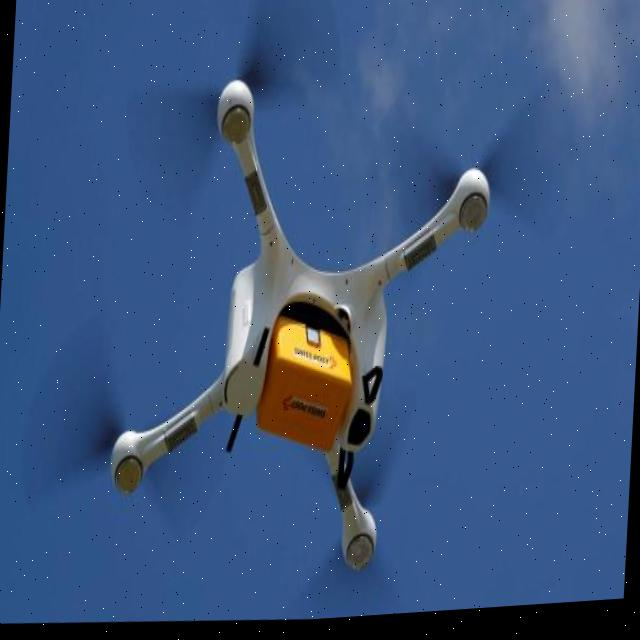drone: (12, 0, 607, 639)
